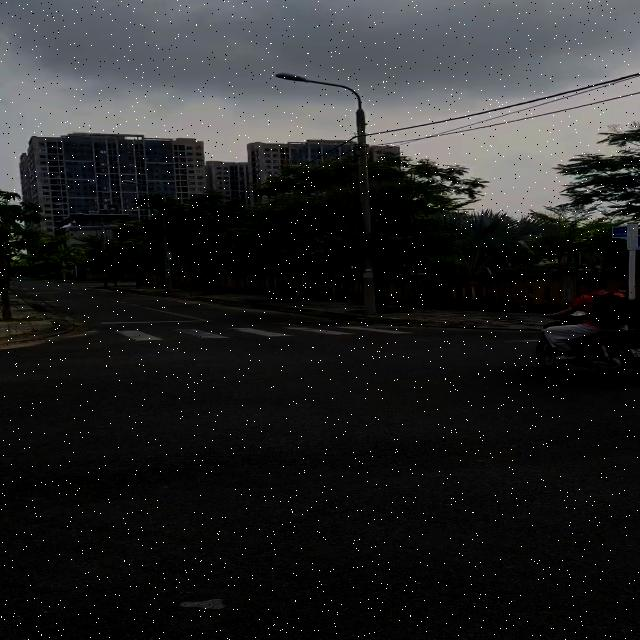no_helmet: (574, 271, 611, 294)
